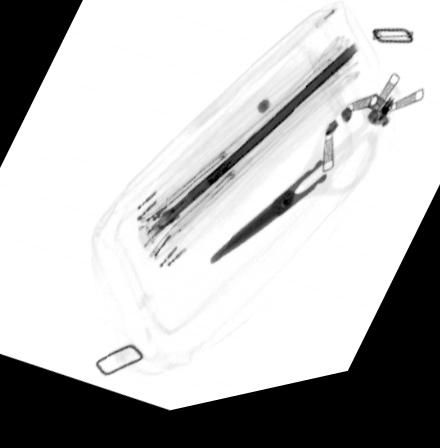Scissors: (207, 116, 382, 273)
